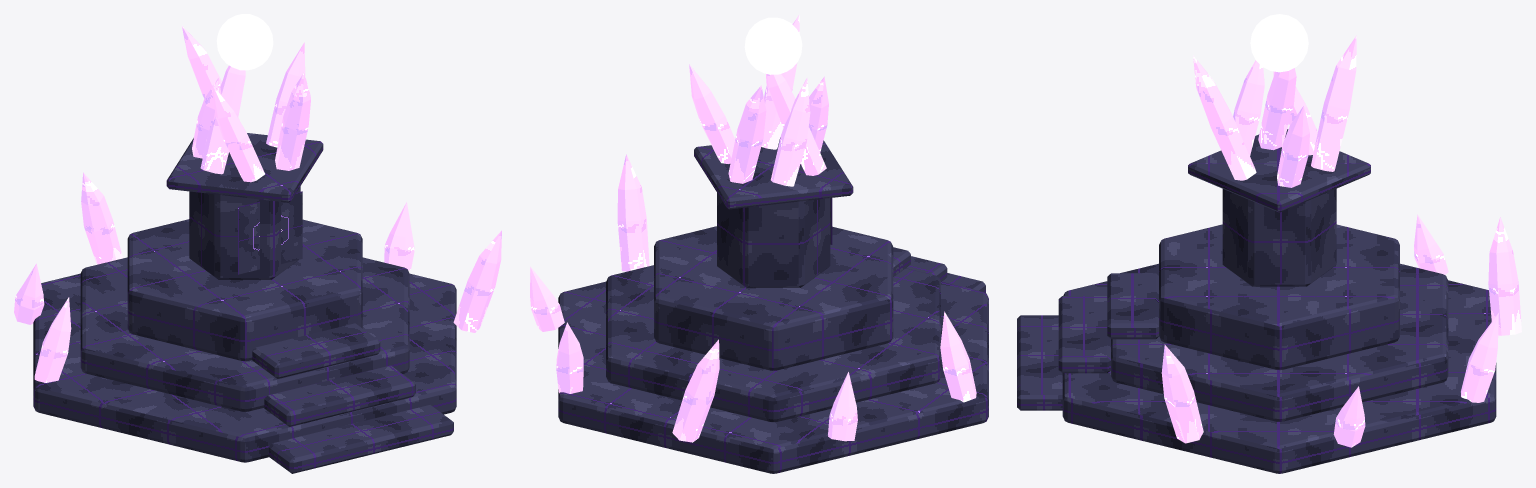
Rendered from psy_altar.glb.
3 views of the same model, side by side, from view 1: azimuth 30°, elevation 25°; view 2: azimuth 150°, elevation 25°; view 3: azimuth 270°, elevation 25° (orthographic). The views are drawn at different scales.
Visible parts, largest first — view 1: Tier0, Tier2, Tier1, Steps, Crystal, RimCrystals, Pedestal, Slab, Plane, Orb; view 2: Tier0, Tier2, Tier1, RimCrystals, Crystal, Pedestal, Slab, Orb, Steps; view 3: Tier2, Tier0, Tier1, Crystal, Steps, RimCrystals, Pedestal, Slab, Orb.
Boxes of the visible parts, x1,y1,x2,y2 form: Tier0: (33, 273, 456, 462); Tier2: (127, 219, 362, 361); Tier1: (80, 257, 409, 411); Steps: (252, 323, 453, 473); Crystal: (181, 25, 310, 182); RimCrystals: (14, 172, 501, 382); Pedestal: (189, 186, 300, 279); Slab: (166, 133, 323, 202); Plane: (238, 191, 302, 274); Orb: (216, 14, 273, 70); Tier0: (558, 281, 988, 473); Tier2: (654, 226, 893, 370); Tier1: (606, 265, 940, 422); RimCrystals: (530, 154, 976, 442); Crystal: (689, 14, 828, 186); Pedestal: (717, 193, 830, 287); Slab: (694, 137, 853, 209); Orb: (744, 17, 802, 74); Steps: (893, 247, 985, 292); Tier2: (1159, 224, 1399, 370); Tier0: (1062, 280, 1496, 473); Tier1: (1111, 263, 1448, 421); Crystal: (1193, 35, 1356, 187); Steps: (1017, 273, 1158, 410); RimCrystals: (1161, 214, 1521, 447); Pedestal: (1222, 188, 1336, 286); Slab: (1188, 129, 1370, 212); Orb: (1250, 14, 1308, 72).
Bounding box in the file's own units: 7.16 × 5.62 × 7.26.
4 materials, 3 textured.
